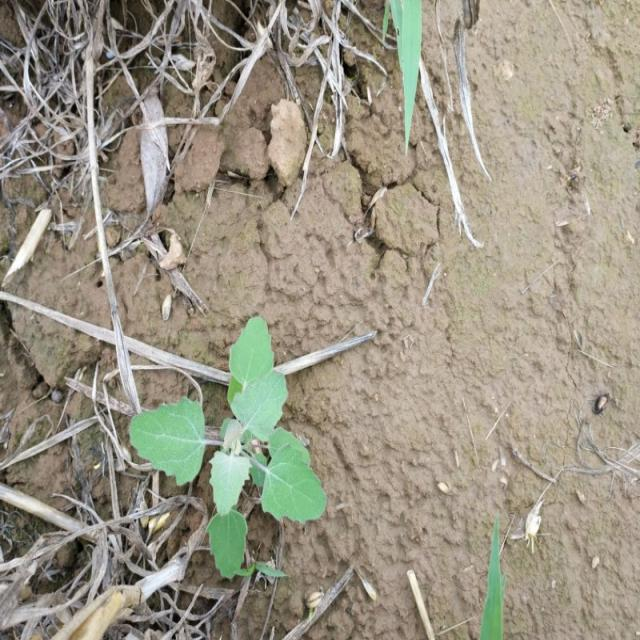goosefoots: (137, 323, 328, 542)
